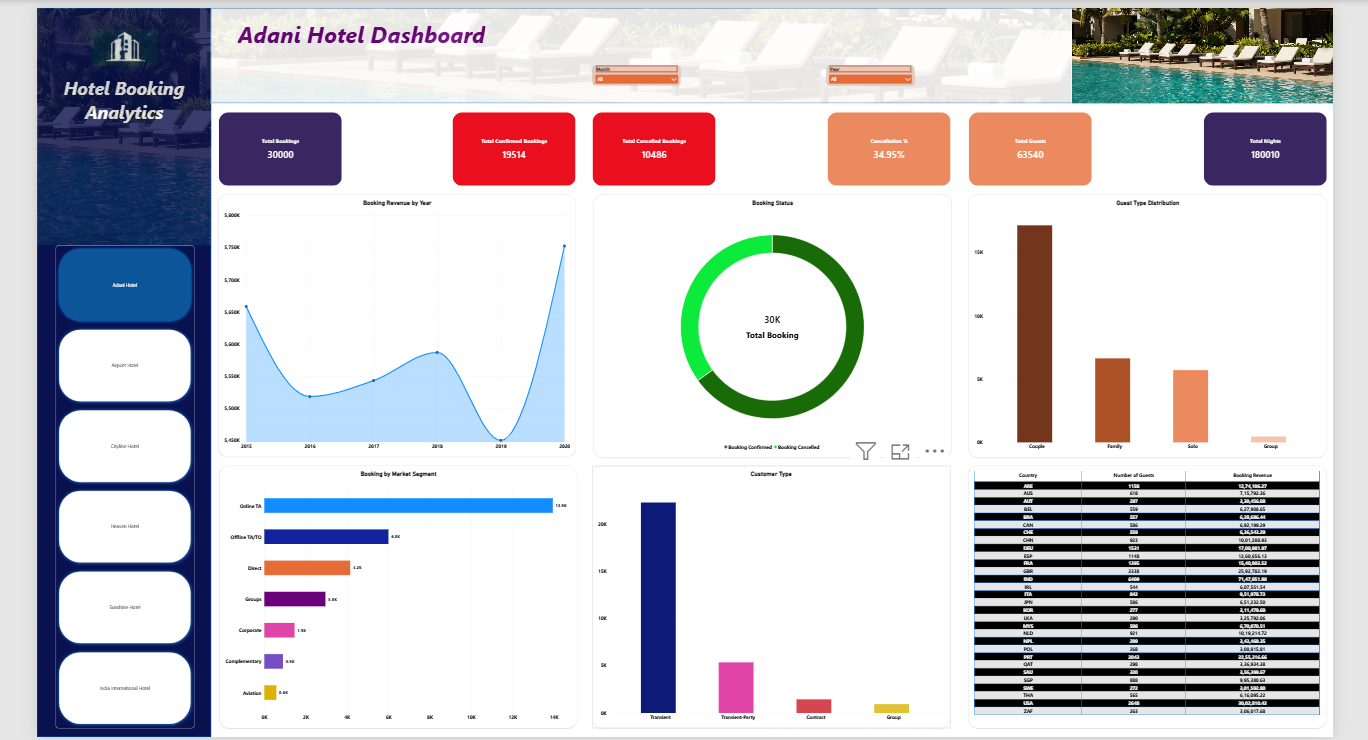

Layout of this report page (visuals, bound fields, positions):
{"tool":"powerbi","page":{"name":"Adani Hotel","canvas":[3840,2160],"ordinal":0},"visuals":[{"type":"shape","box":[0,0,516,2160],"z":0},{"type":"image","box":[158,62,200,107],"z":1000},{"type":"shape","box":[516,0,3324,282],"z":2000},{"type":"image","box":[3065,0,775,282.5],"z":3000},{"type":"image","box":[515,0,2550,282.5],"z":4000},{"type":"donutChart","title":"Booking  Status ","fields":{"Category":["Adani_Hotel.Booking  Status"],"Y":["CountNonNull(Adani_Hotel.Booking  Status)"]},"box":[1646.3,551.2,1061.7,780],"z":5000},{"type":"barChart","title":"Booking by Market Segment ","fields":{"Category":["Adani_Hotel.market_segment"],"Y":["CountNonNull(Adani_Hotel.market_segment)"]},"box":[540.2,1355.2,1059.8,778.2],"z":6000},{"type":"clusteredColumnChart","title":"Guest  Type  Distribution","fields":{"Category":["Adani_Hotel.Guest Type"],"Y":["CountNonNull(Adani_Hotel.Guest Type)"]},"box":[2760,550,1063.3,780],"z":7000},{"type":"lineChart","box":[887.3,2296.4,2549,150],"z":8000},{"type":"stackedAreaChart","title":"Booking  Revenue by Year","fields":{"Category":["Adani_Hotel.Year"],"Y":["Sum(Adani_Hotel.Booking  Revenue)"]},"box":[538.3,550,1060,778.3],"z":9000},{"type":"cardVisual","title":"Total Bookings","fields":{"Data":["Adani_Hotel.Total Bookings"]},"box":[1231.4,308.6,367.5,220],"z":10000},{"type":"cardVisual","title":"Total Bookings","fields":{"Data":["Adani_Hotel.Total cancelled Bookings"]},"box":[1645.7,307.1,367.5,220],"z":11000},{"type":"cardVisual","title":"Total Bookings","fields":{"Data":["Adani_Hotel.Total Nights"]},"box":[3454.8,307.1,367.5,220],"z":13000},{"type":"cardVisual","title":"Total Bookings","fields":{"Data":["Adani_Hotel.Cancellation %"]},"box":[2340,308.6,367.5,220],"z":14000},{"type":"image","box":[0,0,516.7,703.3],"z":15000},{"type":"pageNavigator","box":[56.7,703.3,410,1430],"z":16000},{"type":"slicer","fields":{"Values":["Adani_Hotel.Year"]},"box":[2339.3,169.6,257.8,57.8],"z":17000},{"type":"slicer","fields":{"Values":["Adani_Hotel.Month"]},"box":[1646.4,169.6,257.8,57.8],"z":18000},{"type":"clusteredColumnChart","title":"Customer Type","fields":{"Category":["Adani_Hotel.customer_type"],"Y":["CountNonNull(Adani_Hotel.customer_type)"]},"box":[1646,1355.2,1060.9,778.2],"z":19000},{"type":"tableEx","fields":{"Values":["Adani_Hotel.country","CountNonNull(Adani_Hotel.country)","Sum(Adani_Hotel.Booking  Revenue)"]},"box":[2759.8,1355.2,1062.1,778.2],"z":20000},{"type":"cardVisual","title":"Total Bookings","fields":{"Data":["CountNonNull(Adani_Hotel.Booking  Status)"]},"box":[538.8,308.8,367.5,220],"z":21000},{"type":"cardVisual","title":"Total Bookings","fields":{"Data":["Adani_Hotel.Total Guests"]},"box":[2759.5,307.1,367.5,220],"z":21001}]}

Visuals, with their boxes on the page's 3840x2160 design canvas (x1, y1, x2, y2). These are canvas units, not pixel positions in the 1368x740 screenshot, which may show the page scaled, cropped or inside an application window:
shape: box(0, 0, 516, 2160)
image: box(158, 62, 358, 169)
shape: box(516, 0, 3840, 282)
image: box(3065, 0, 3840, 282)
image: box(515, 0, 3065, 282)
"Booking  Status " donutChart: box(1646, 551, 2708, 1331)
"Booking by Market Segment " barChart: box(540, 1355, 1600, 2133)
"Guest  Type  Distribution" clusteredColumnChart: box(2760, 550, 3823, 1330)
lineChart: box(887, 2296, 3436, 2446)
"Booking  Revenue by Year" stackedAreaChart: box(538, 550, 1598, 1328)
"Total Bookings" cardVisual: box(1231, 309, 1599, 529)
"Total Bookings" cardVisual: box(1646, 307, 2013, 527)
"Total Bookings" cardVisual: box(3455, 307, 3822, 527)
"Total Bookings" cardVisual: box(2340, 309, 2708, 529)
image: box(0, 0, 517, 703)
pageNavigator: box(57, 703, 467, 2133)
slicer - Adani_Hotel.Year: box(2339, 170, 2597, 227)
slicer - Adani_Hotel.Month: box(1646, 170, 1904, 227)
"Customer Type" clusteredColumnChart: box(1646, 1355, 2707, 2133)
tableEx - Adani_Hotel.country x CountNonNull(Adani_Hotel.country): box(2760, 1355, 3822, 2133)
"Total Bookings" cardVisual: box(539, 309, 906, 529)
"Total Bookings" cardVisual: box(2760, 307, 3127, 527)
